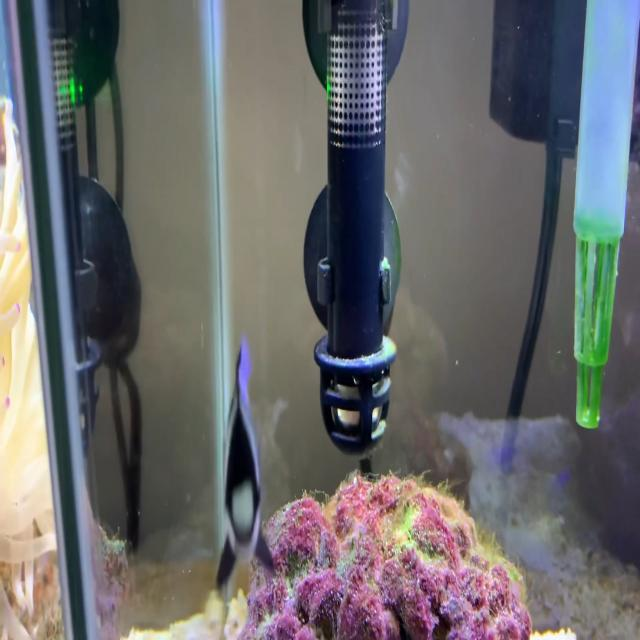ThreeStripedDamselfish: (217, 338, 274, 586)
